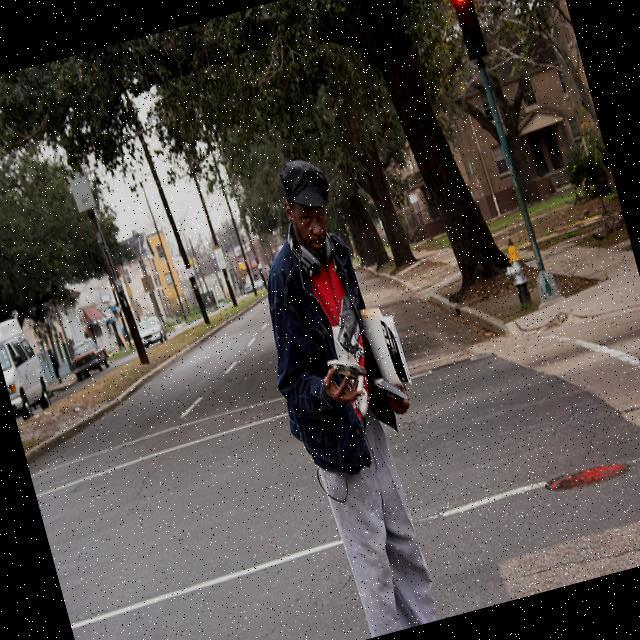fire_hydrant: (496, 235, 534, 309)
